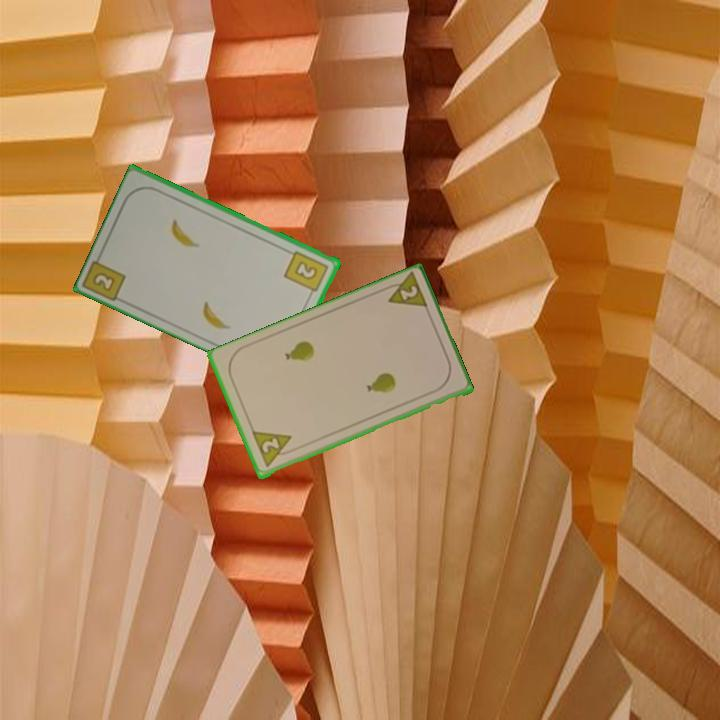2b: (281, 247, 332, 299), (89, 269, 119, 294)
2p: (379, 270, 431, 313), (249, 428, 298, 471)
